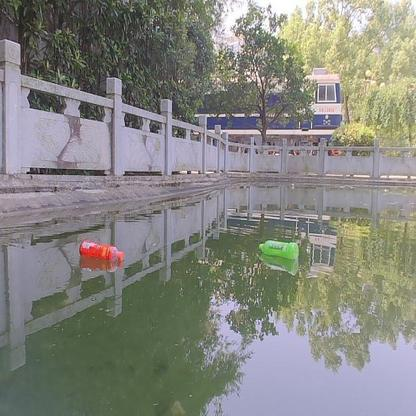plastic bottle: (79, 238, 124, 264), (256, 239, 299, 260)
